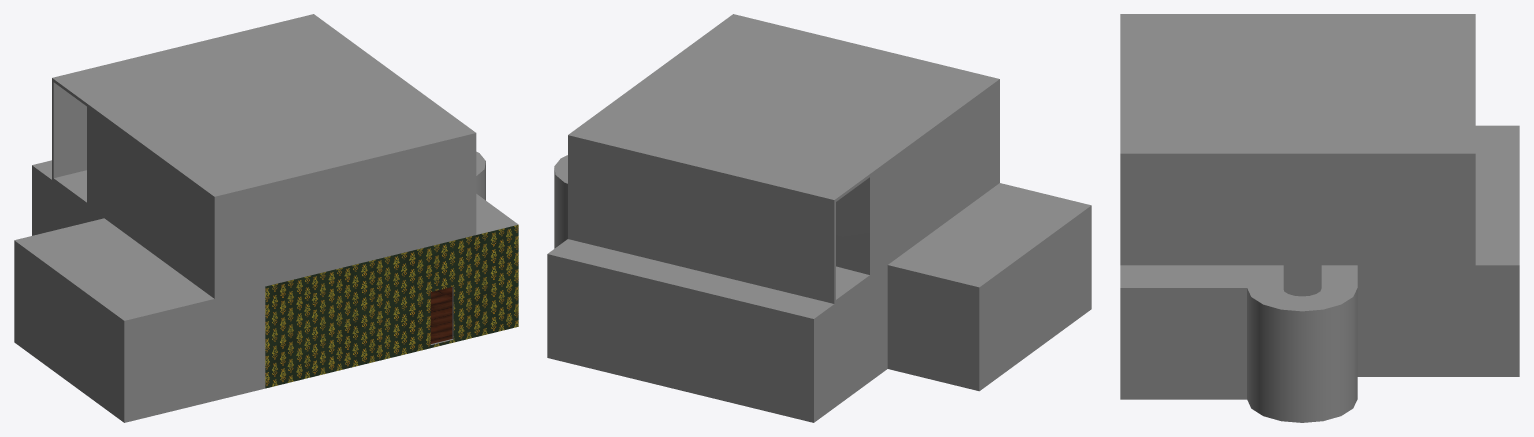
File: Casa.FBX
The picture shows the model from 3 angles, left to right: view 1: azimuth 30°, elevation 25°; view 2: azimuth 150°, elevation 25°; view 3: azimuth 270°, elevation 25°; orthographic projection. The views are drawn at different scales.
Visible parts, largest first — view 1: TODA LA CASA ENTERA; view 2: TODA LA CASA ENTERA; view 3: TODA LA CASA ENTERA.
Part boxes in pixels (x1=…): TODA LA CASA ENTERA: x1=14, y1=14, x2=518, y2=422; TODA LA CASA ENTERA: x1=547, y1=14, x2=1091, y2=422; TODA LA CASA ENTERA: x1=1120, y1=14, x2=1519, y2=422.
Bounding box in the file's own units: 1633 × 726 × 1178.
